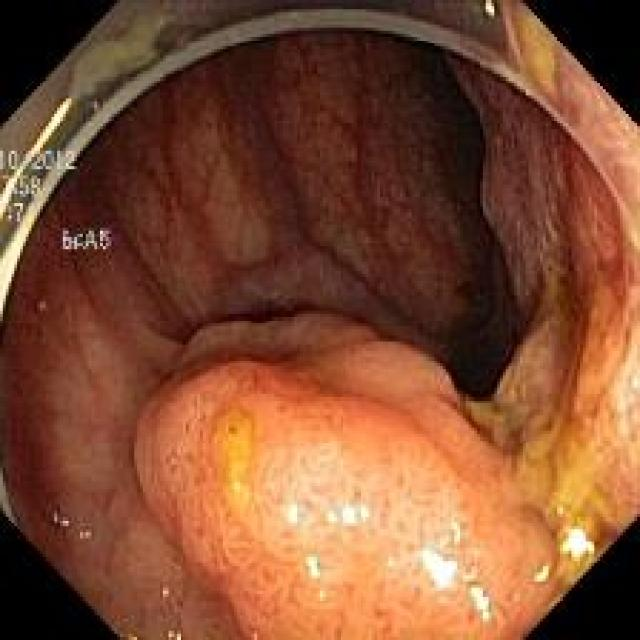Polyps: (134, 314, 564, 639)
